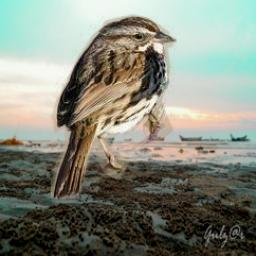Sparrow: (52, 12, 178, 199)
